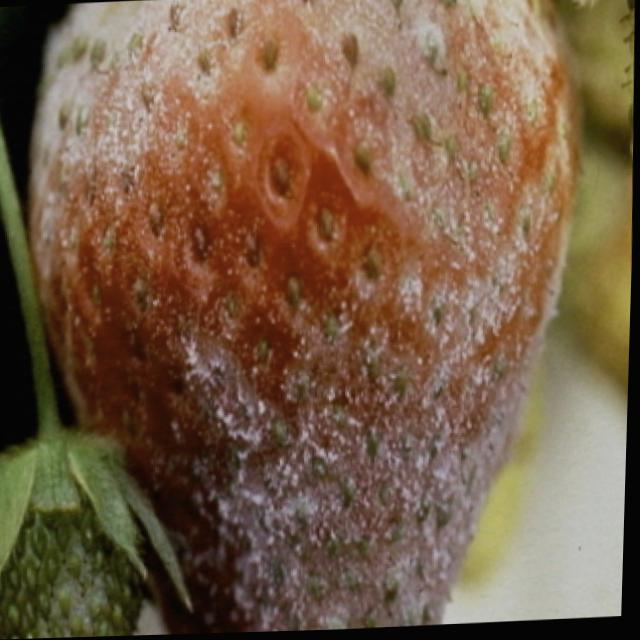Powdery Mildew Fruit: (24, 0, 581, 636), (0, 427, 144, 640)
